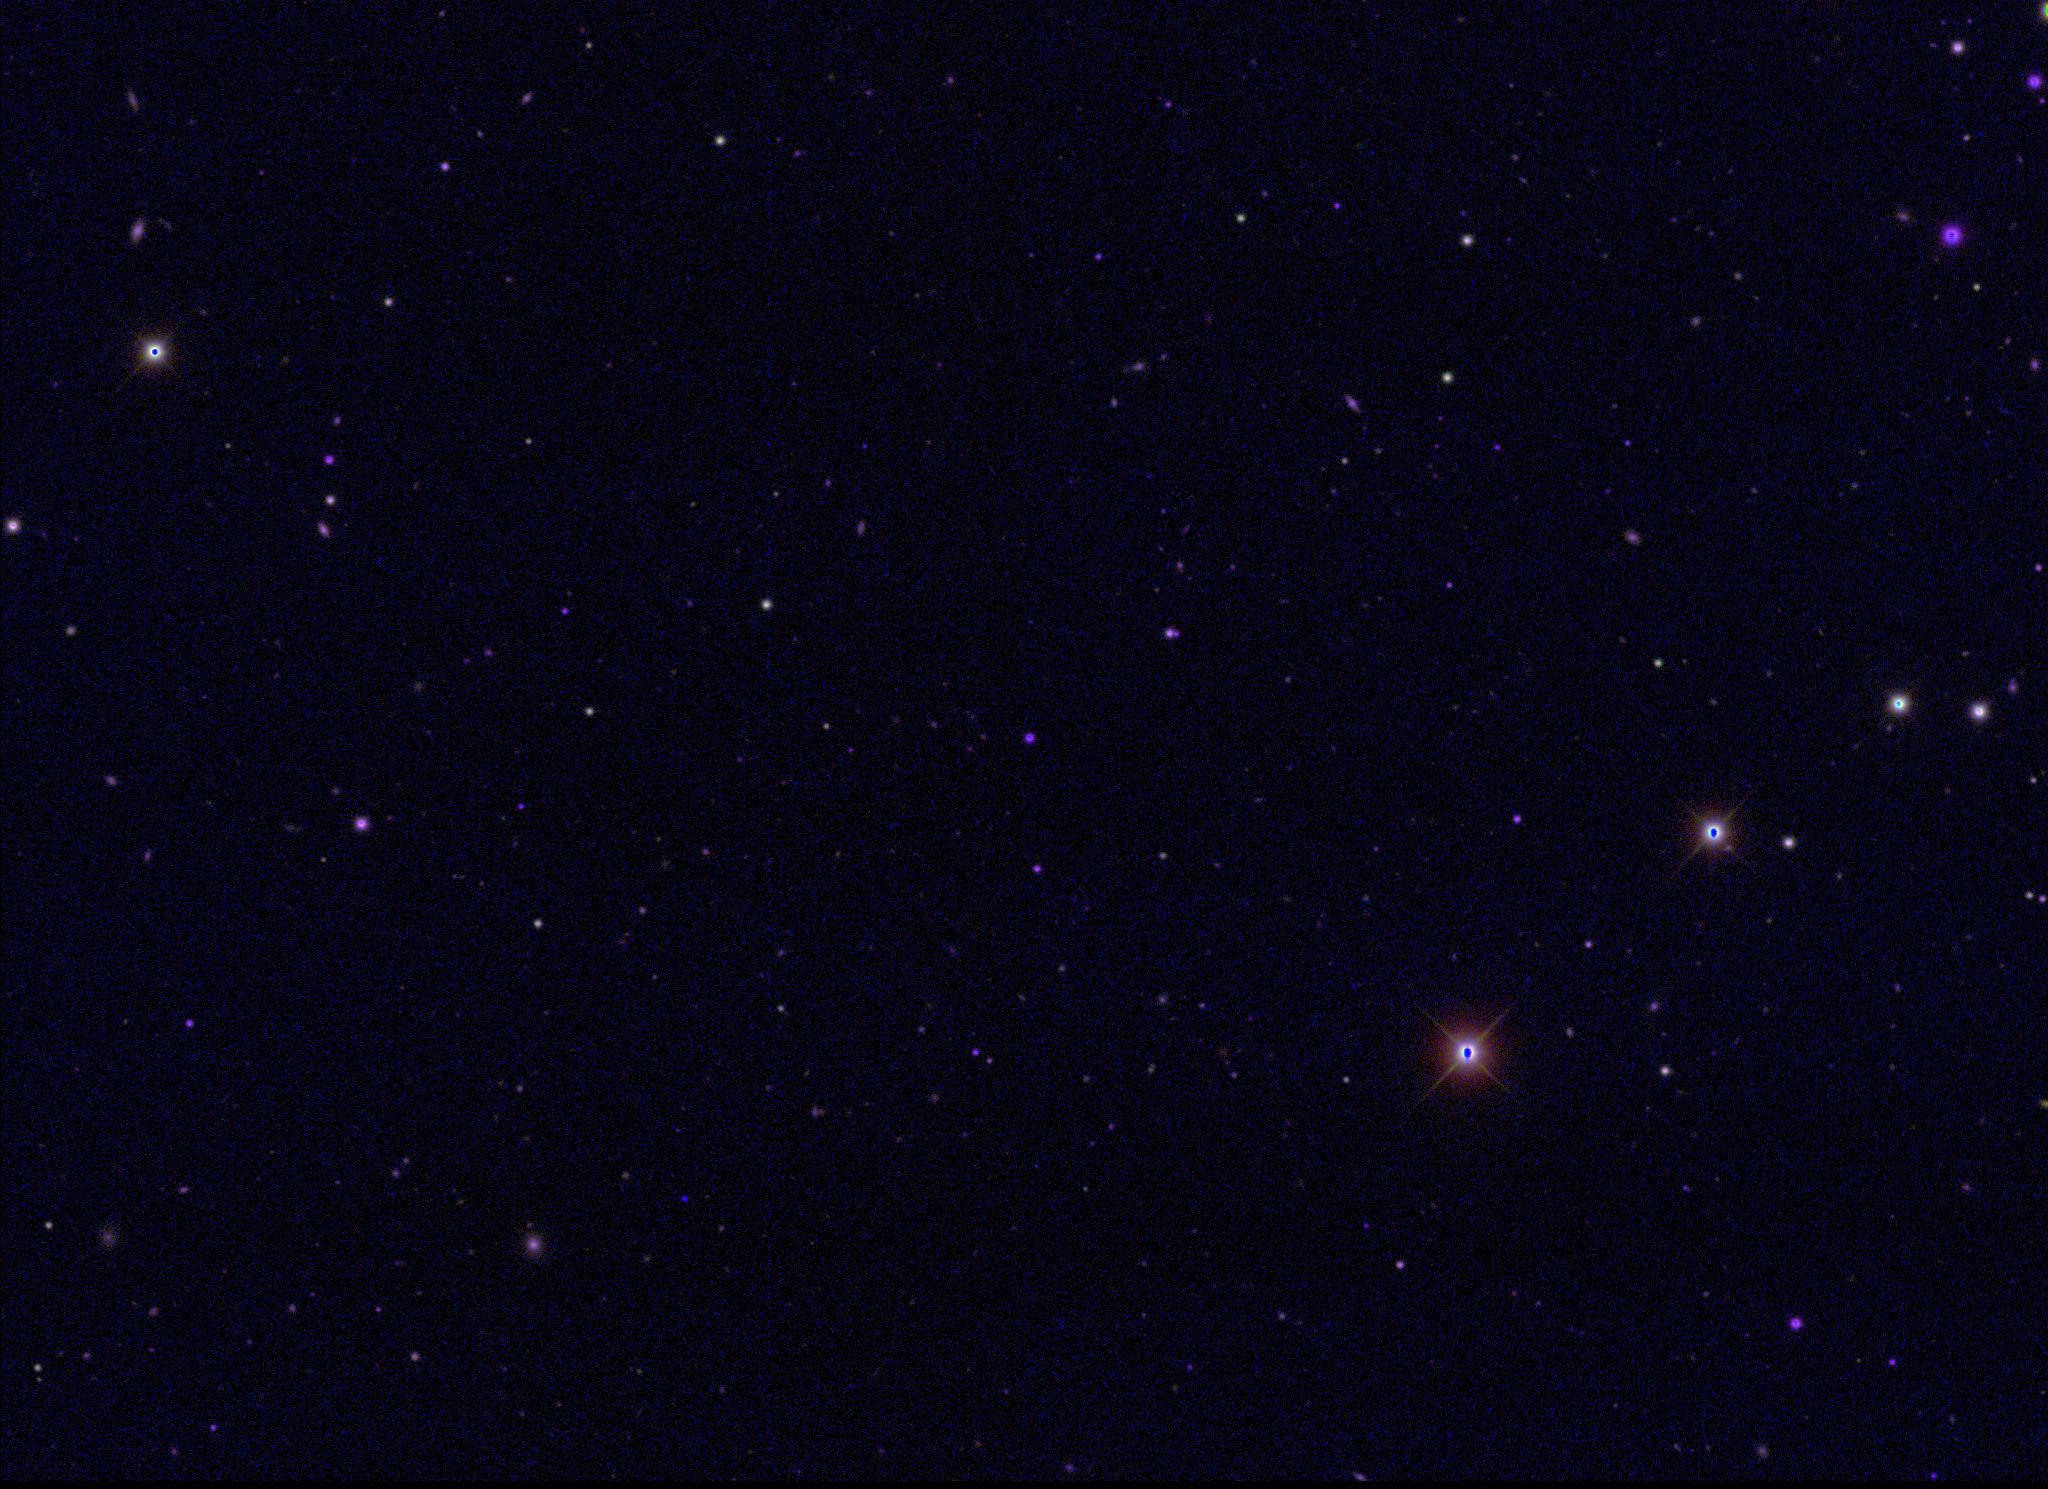L: (677, 1188, 692, 1203)
